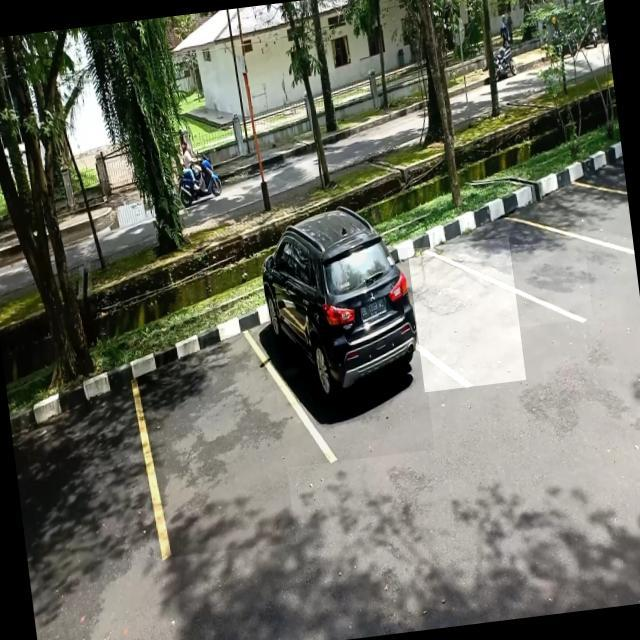empty: (131, 330, 296, 558), (407, 236, 526, 392), (485, 208, 593, 329), (550, 174, 634, 258)
occupied: (260, 247, 434, 468)
